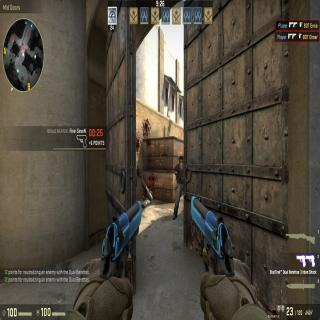T-Body: (173, 154, 186, 218)
T-Head: (178, 154, 185, 170)
